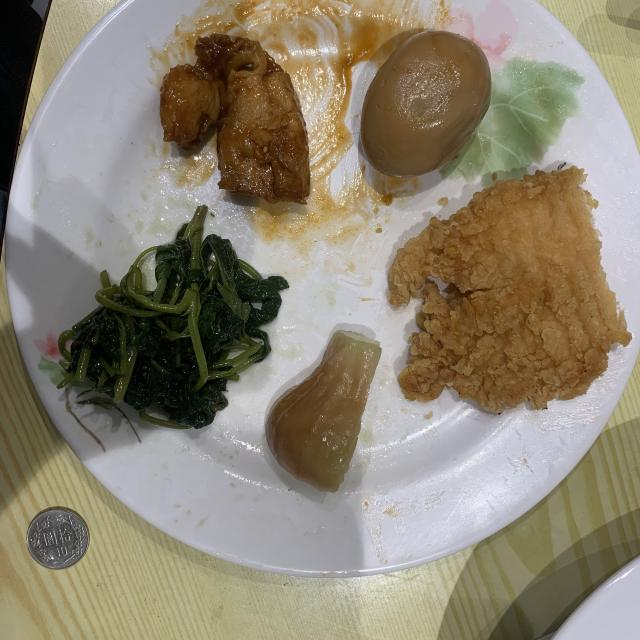coin: (26, 506, 90, 569)
creamy tofu: (160, 34, 310, 202)
fried chicken cutlet: (389, 166, 631, 412)
soy egg: (360, 30, 491, 178)
sweet potato leaves: (58, 208, 289, 429)
